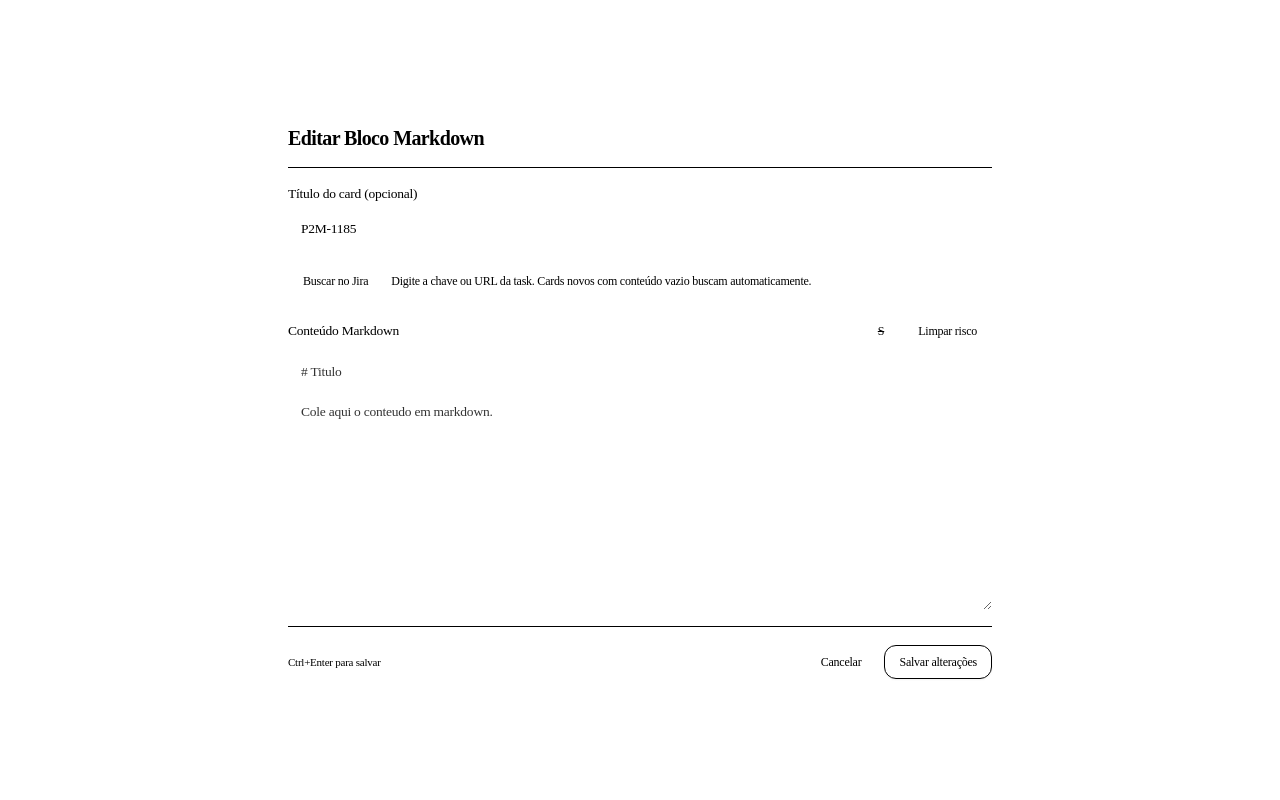
importação de task no modal › ignora uma resposta antiga se o título mudar durante a busca
Click the button "Buscar no Jira" at (336, 282), box [288,264,383,298]
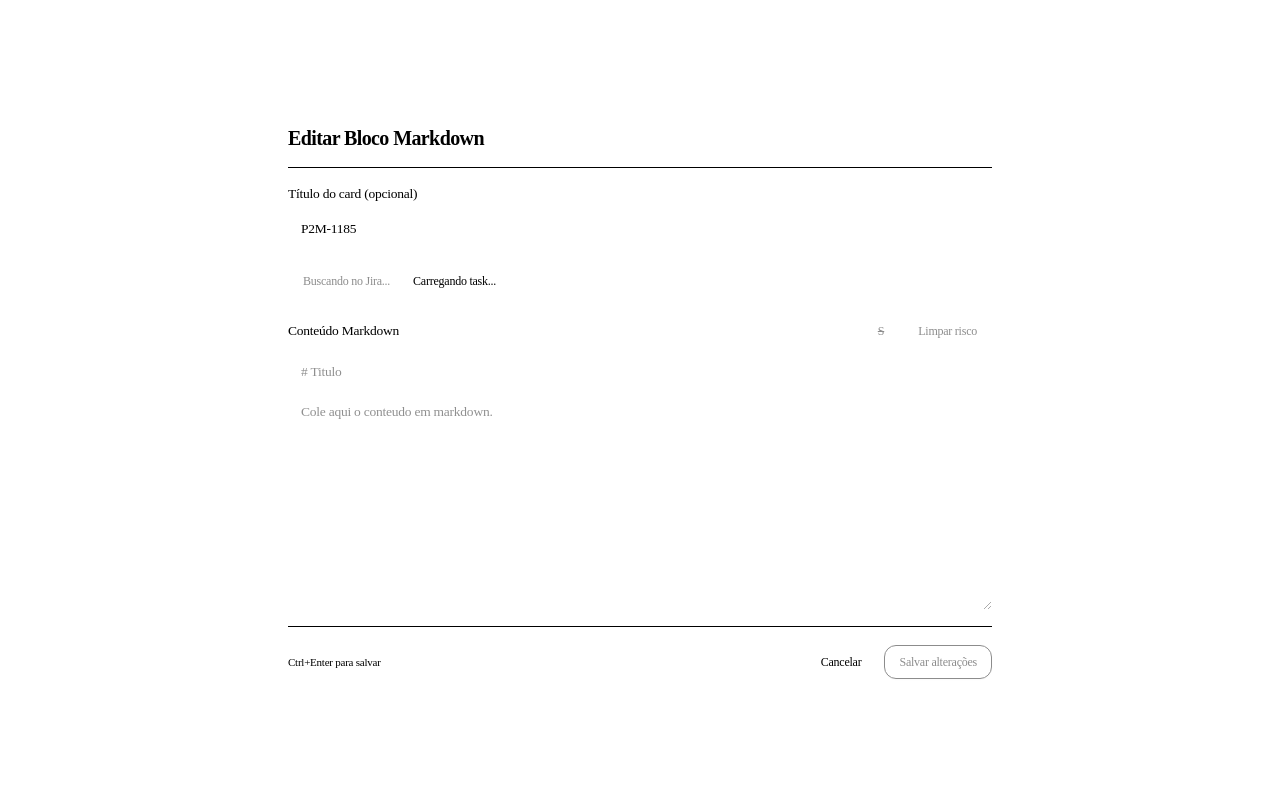
Now the button "Salvar alterações" is disabled, box [884,646,992,680]
Replace the text in the field labelled "Título do card (opcional)" with "P2M-2" at (640, 230), box [288,210,992,248]
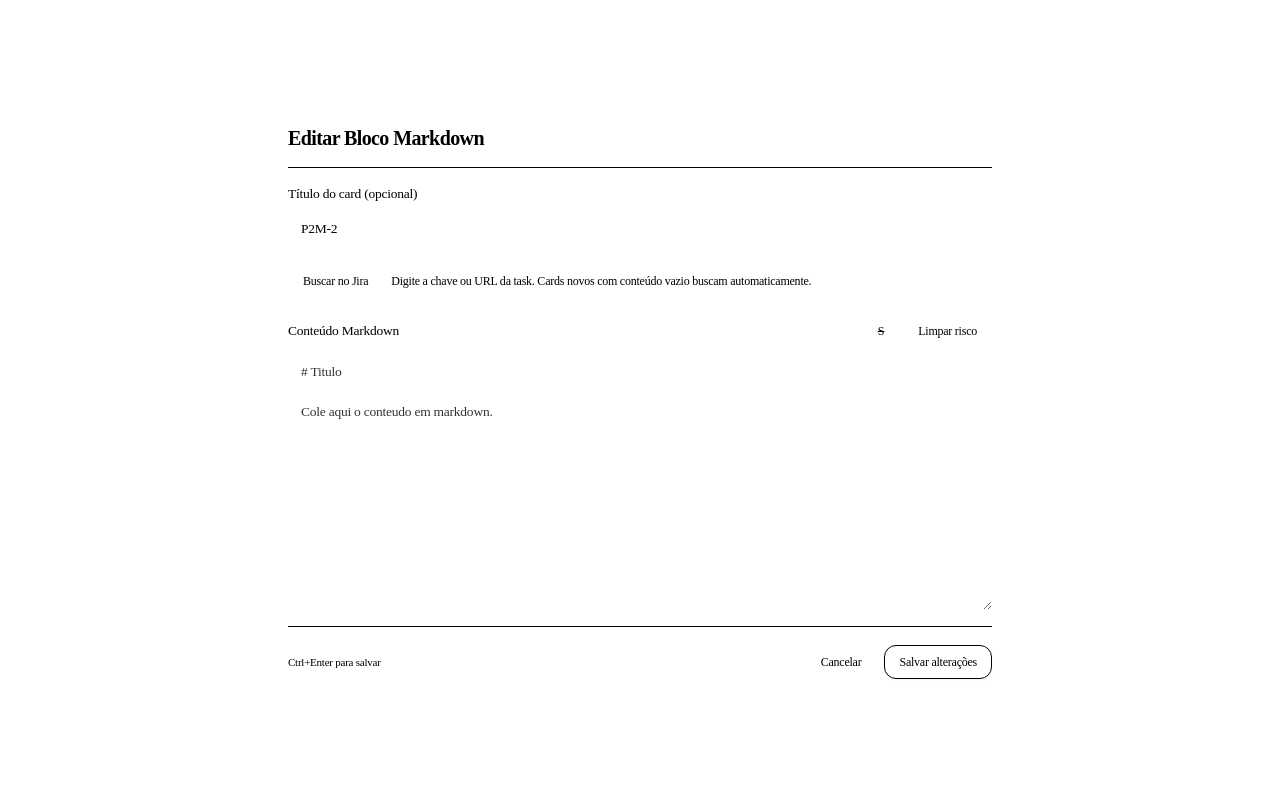
Expected: the text box labelled "Conteúdo Markdown" is empty, [288,354,992,610]
Now the button "Salvar alterações" is enabled, box [884,646,992,680]
